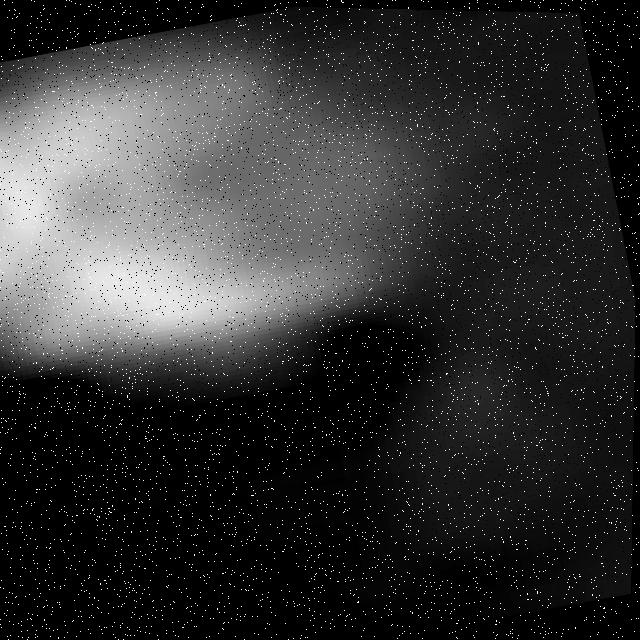person: (1, 1, 543, 427)
